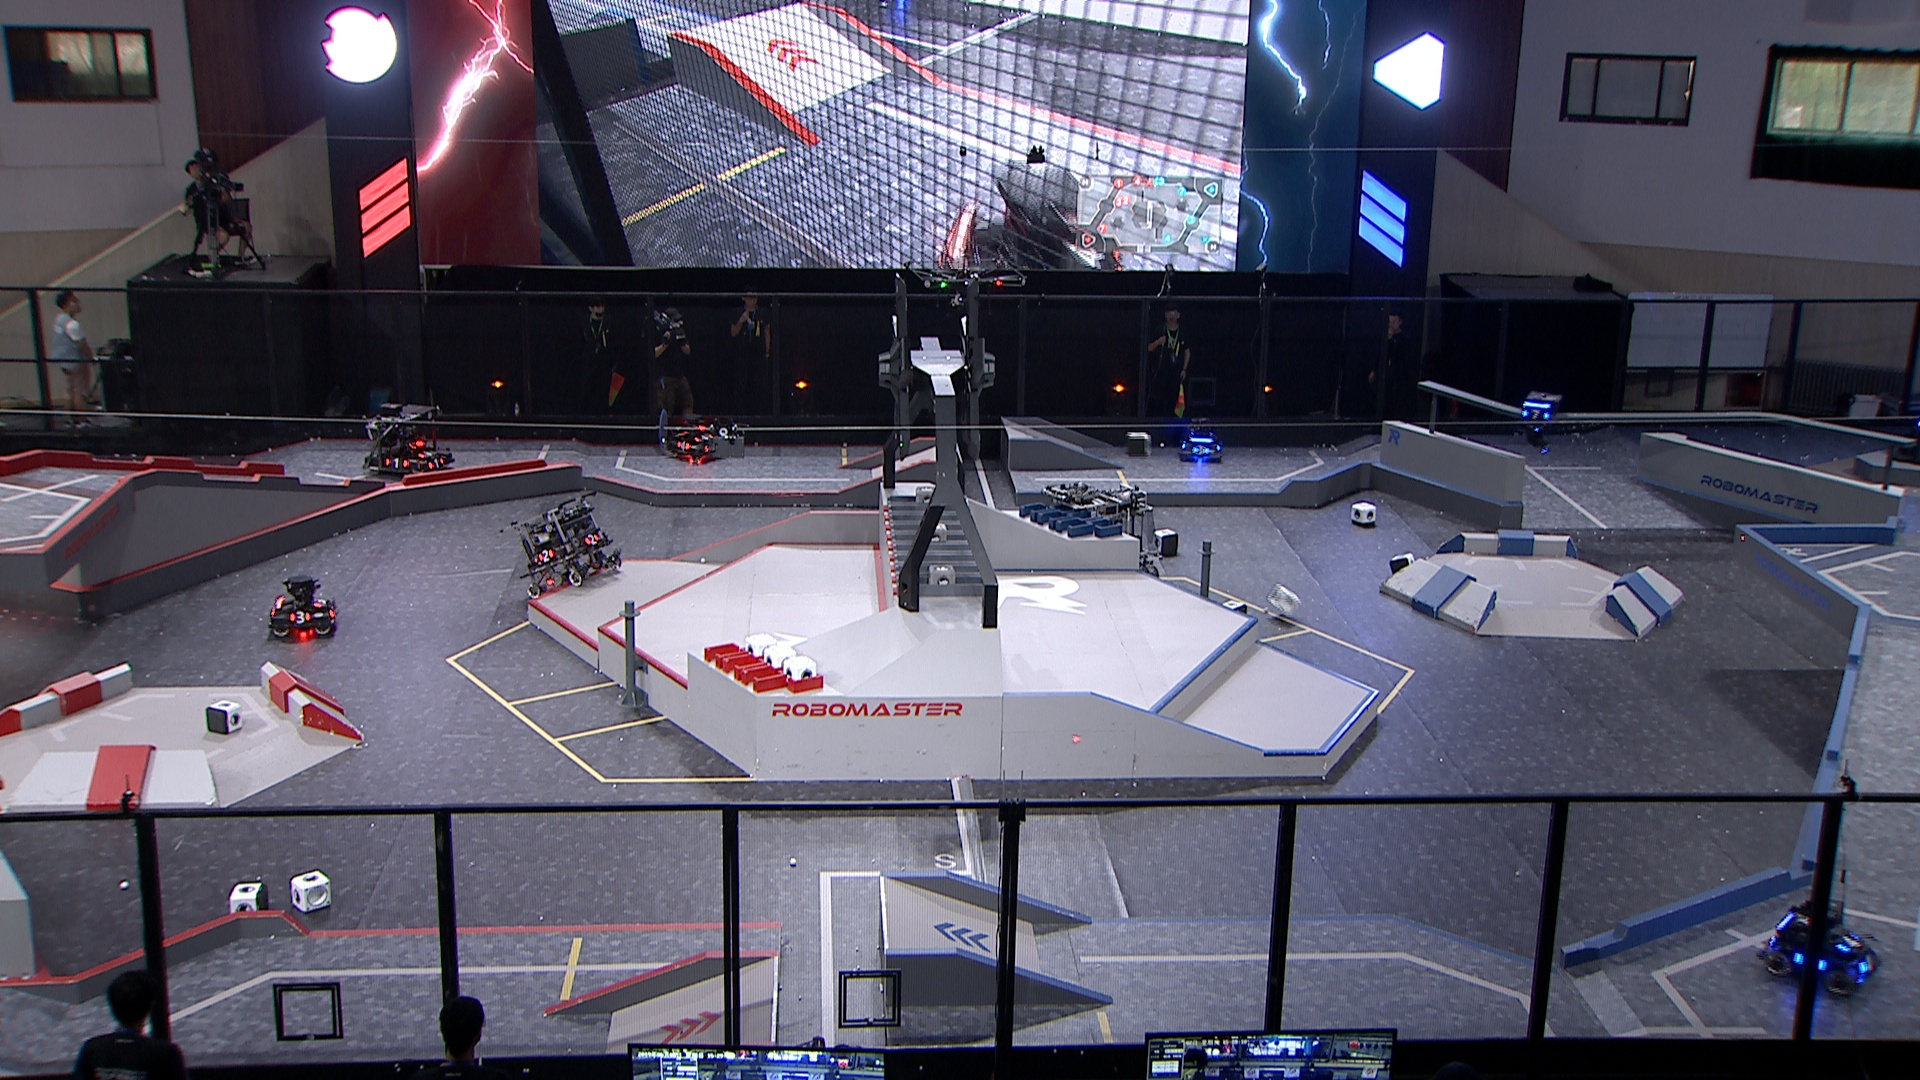armor: (1833, 928, 1865, 955), (1520, 405, 1549, 422), (285, 608, 311, 626), (381, 456, 411, 472), (1855, 953, 1878, 975), (582, 531, 604, 550), (534, 546, 556, 564), (309, 589, 328, 609), (425, 455, 448, 471), (417, 446, 438, 460), (692, 431, 713, 446), (673, 438, 692, 451), (1192, 443, 1207, 456)
car: (1760, 891, 1884, 1000), (517, 491, 622, 603), (361, 394, 456, 476), (268, 575, 339, 638), (661, 410, 727, 465), (1174, 415, 1224, 462)
ignore: (928, 157, 1124, 276)
watcher: (1513, 396, 1557, 455)
